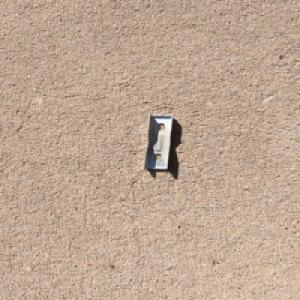ClampPart: (140, 112, 176, 172)
